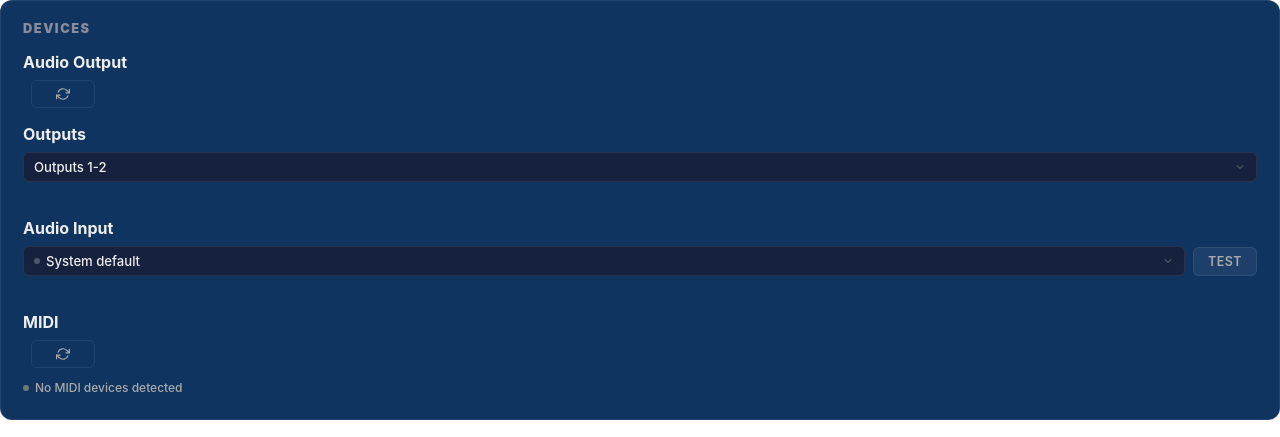
Test: the Outputs picker › offers one option per PAIR, counting outputs from one
Click the button "Outputs 1-2": (70, 167) [23,152,1257,182]
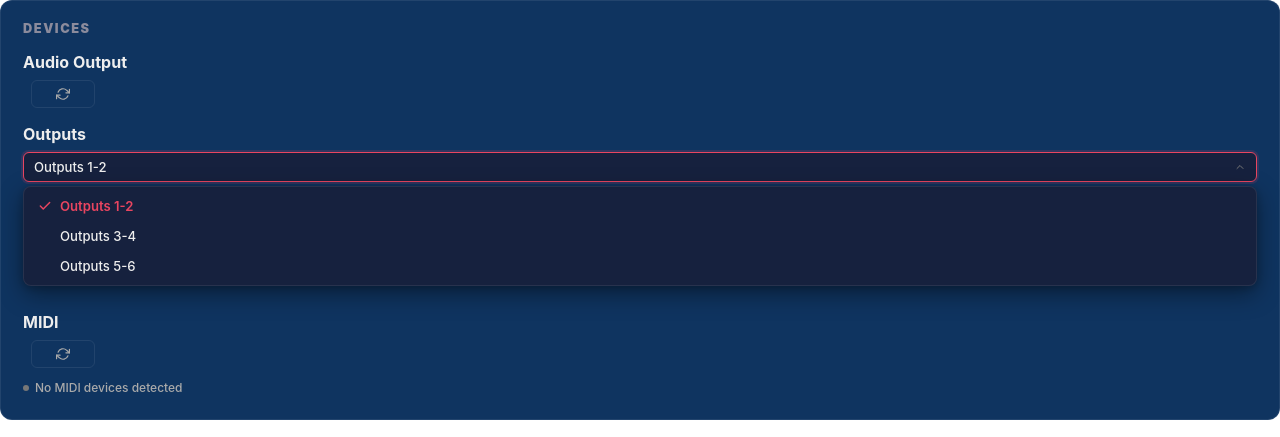
Expected: the text "Outputs 3-4" is shown, [60,228,136,244]
Expected: the text "Outputs 5-6" is shown, [60,258,136,274]
